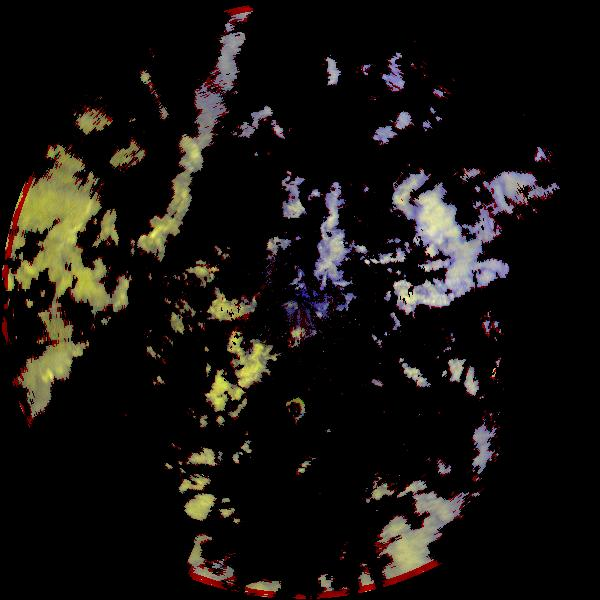roost: (284, 399, 308, 423)
